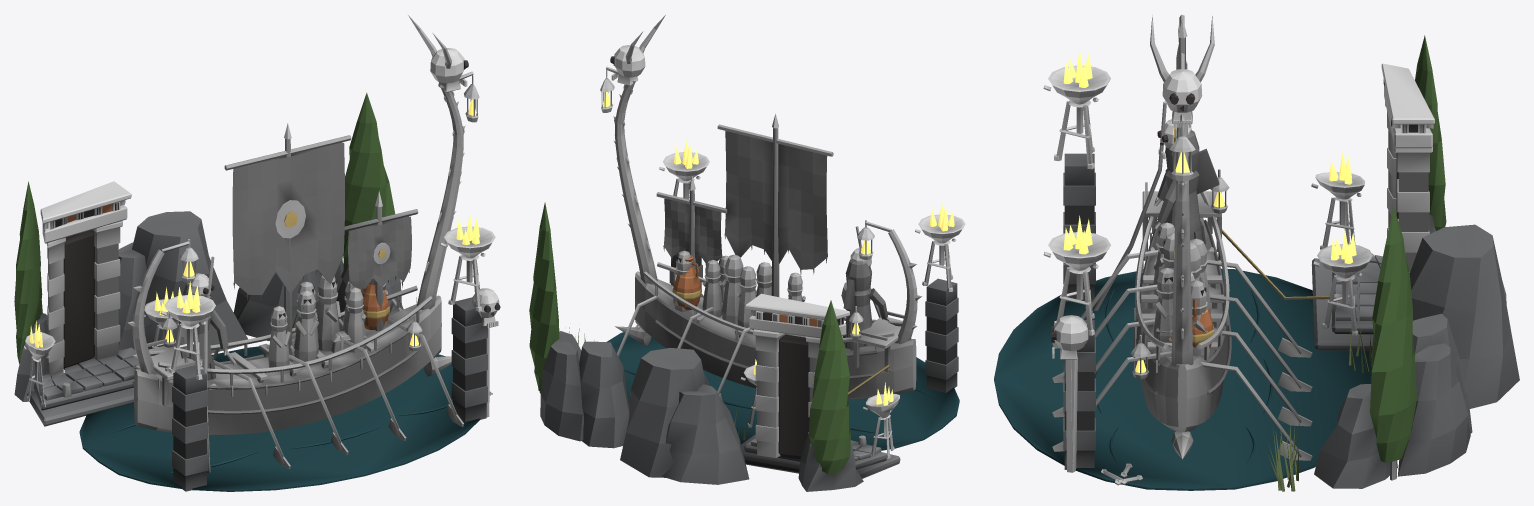
File: charons-barge-l3.glb
The picture shows the model from 3 angles, left to right: view 1: azimuth 30°, elevation 25°; view 2: azimuth 150°, elevation 25°; view 3: azimuth 270°, elevation 25°; orthographic projection. The views are drawn at different scales.
Visible parts, largest first — view 1: charons-barge-l3; view 2: charons-barge-l3; view 3: charons-barge-l3.
Boxes of the visible parts, box(x1,y1,x2,y2) form: charons-barge-l3: box(14, 15, 500, 491); charons-barge-l3: box(529, 15, 965, 491); charons-barge-l3: box(994, 14, 1519, 491).
Size of the model in its own units: 1.45 by 1.33 by 1.4.
